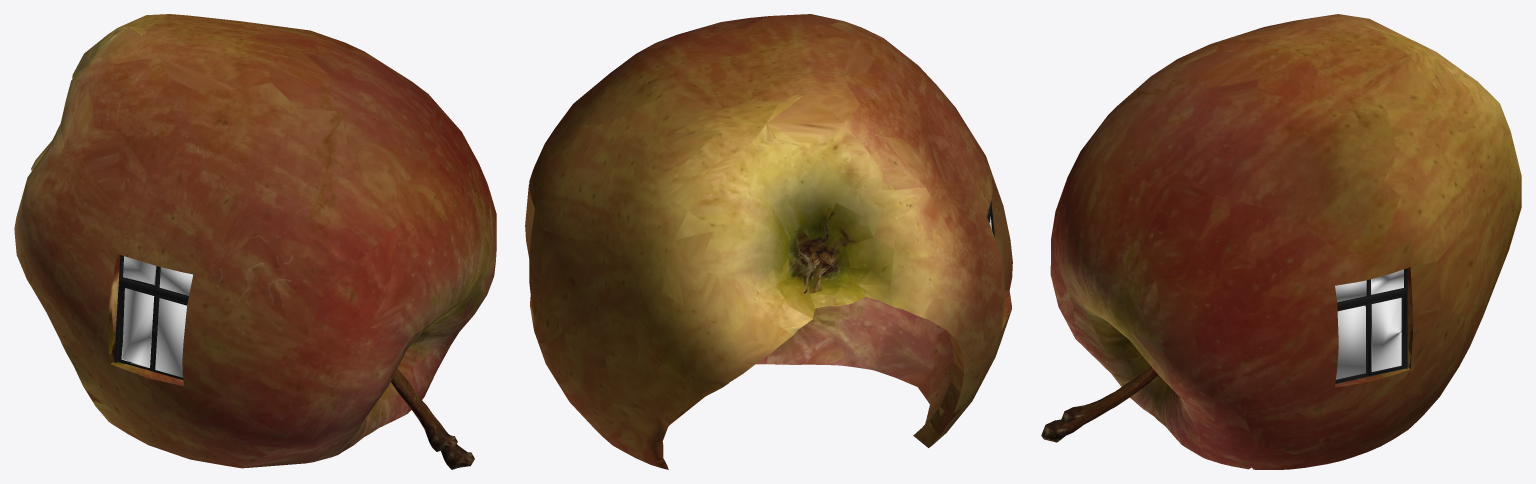
Rendered from Apple.fbx.
3 views of the same model, side by side, from view 1: azimuth 30°, elevation 25°; view 2: azimuth 150°, elevation 25°; view 3: azimuth 270°, elevation 25° (orthographic). The views are drawn at different scales.
Visible parts, largest first — view 1: apple; view 2: apple; view 3: apple.
Boxes of the visible parts, <box> form: apple: <box>14,14,496,469</box>; apple: <box>525,14,1012,469</box>; apple: <box>1041,14,1521,469</box>.
Bounding box in the file's own units: 580 × 480 × 601.
3 materials, 1 textured.
